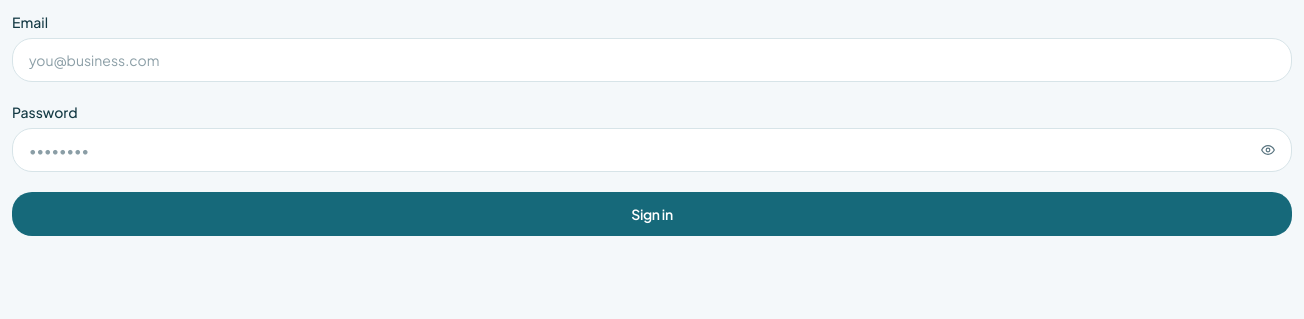
Test: LoginForm › shows a generic auth error and prevents duplicate submits while pending
In the field labelled "Email": (652, 60) [12,38,1292,82], type "owner@business-a.test"
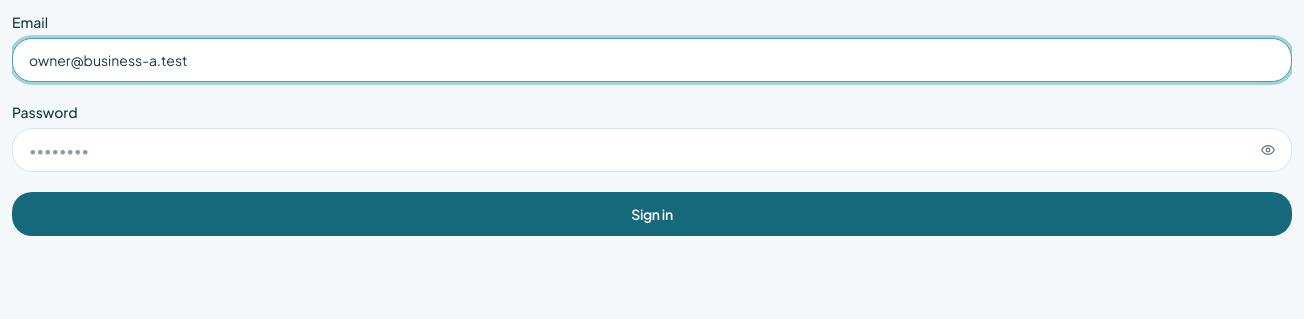
In the password field labelled "Password": (652, 150) [12,128,1292,172], type "wrong-password"
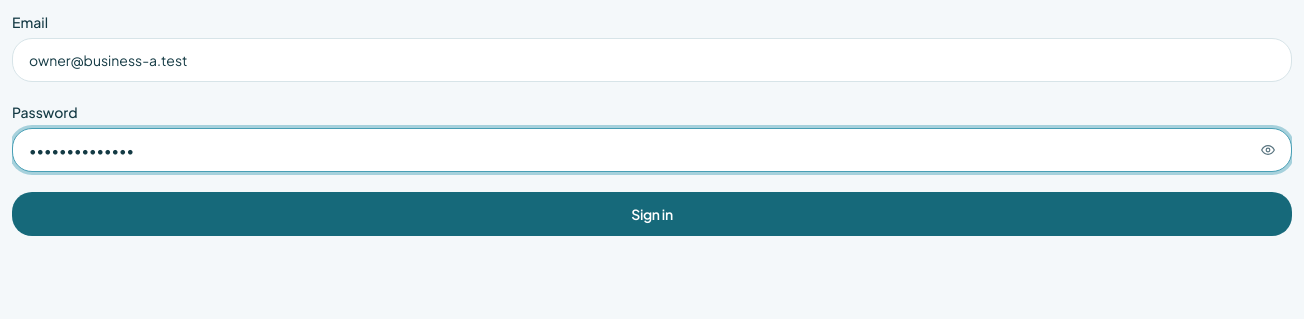
Click the button "Sign in": (652, 214) [12,192,1292,236]
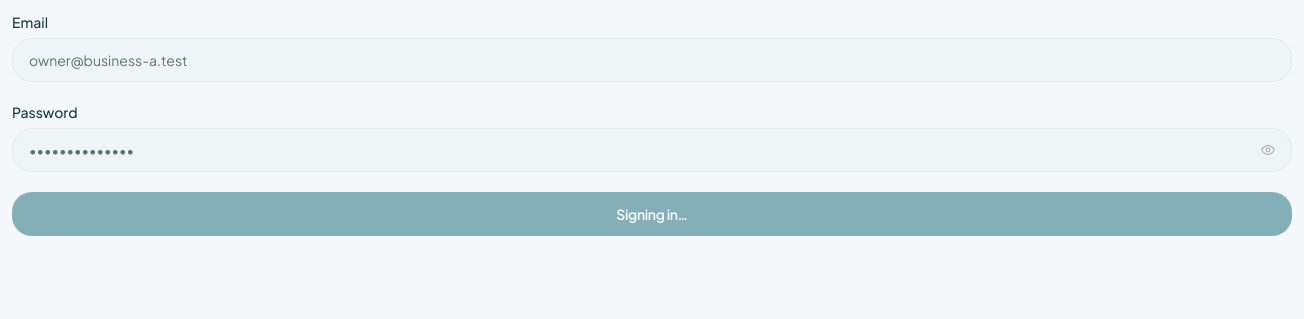
expect the button "Signing in…" is shown: met
expect the button "Signing in…" is disabled: met
Click the button "Signing in…": (652, 214) [12,192,1292,236]
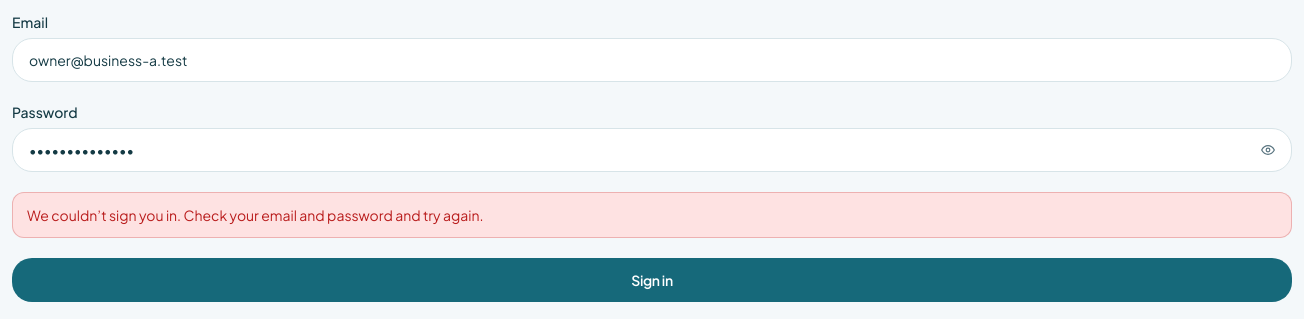
expect the message reads "We couldn’t sign you in. Check your email and password and try again.": met, box [27,206,484,224]
